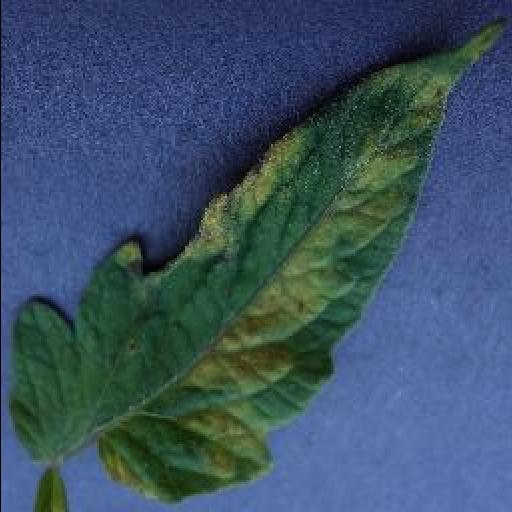disease_tomato: (5, 18, 507, 503)
